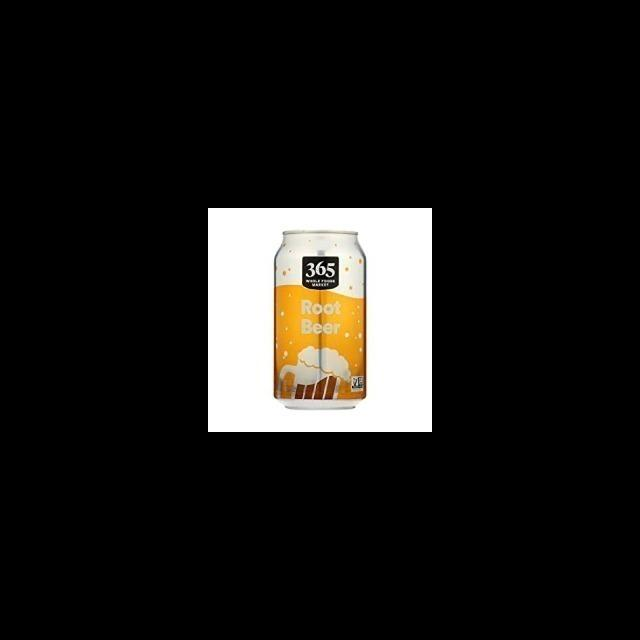metal: (269, 220, 376, 416)
